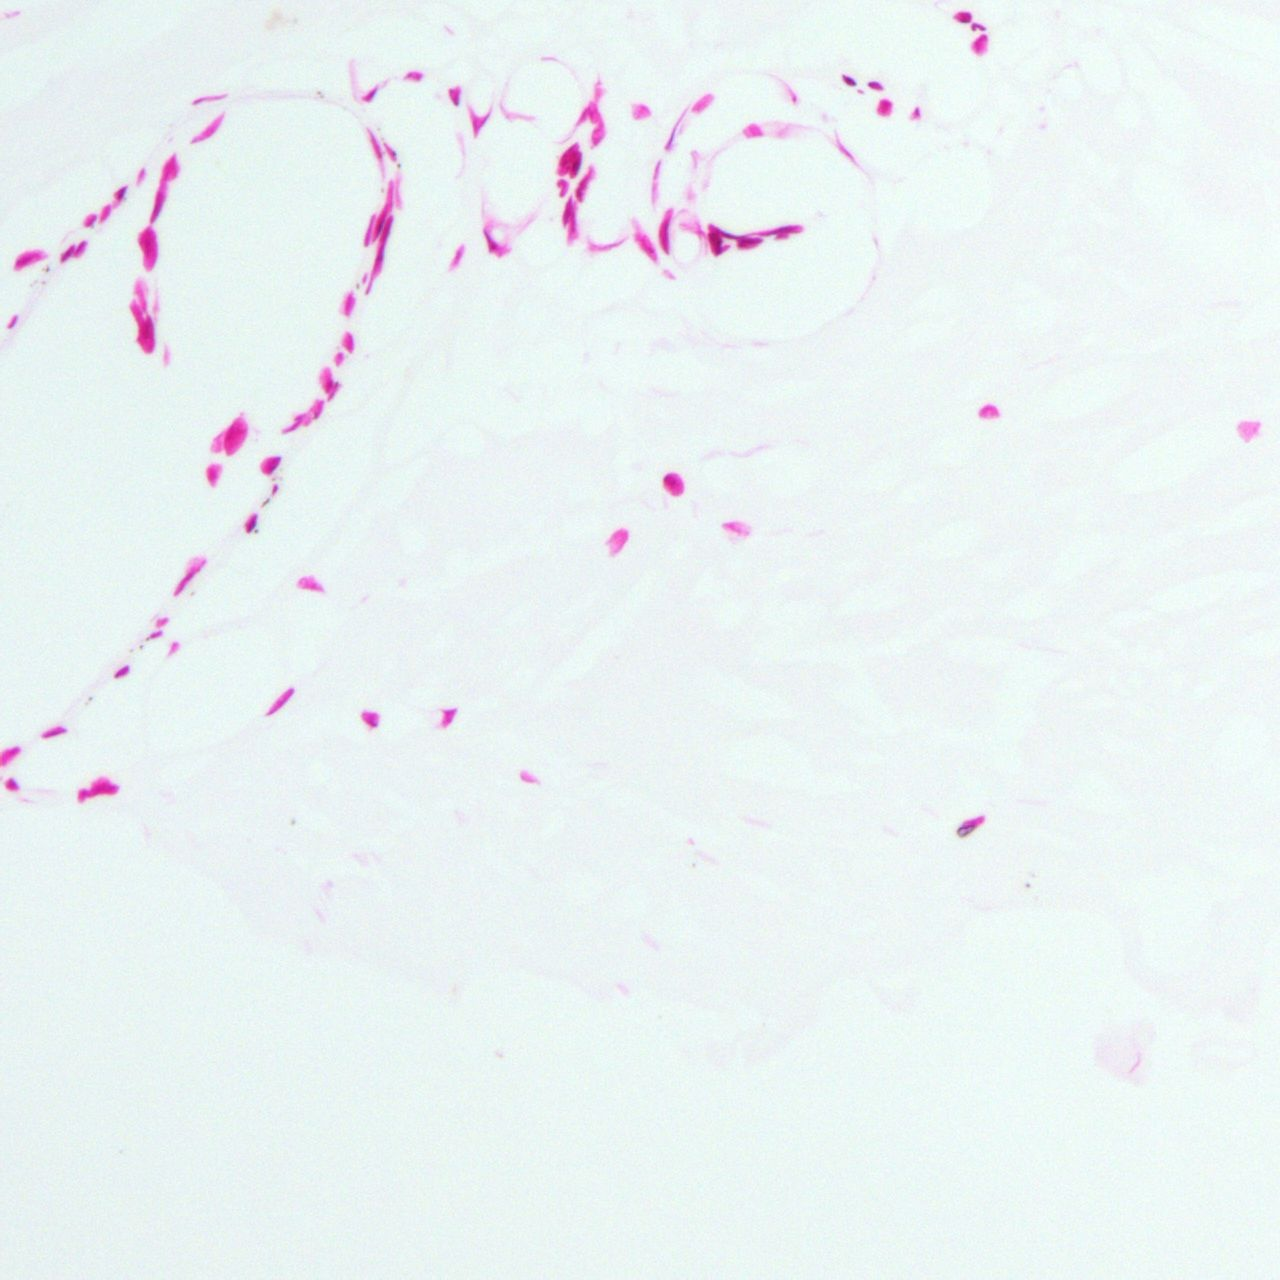dust: (1024, 881, 1032, 887)
nucleus-FG: (363, 213, 399, 298), (147, 150, 183, 227), (366, 178, 399, 247), (166, 550, 207, 598), (476, 224, 512, 261), (554, 138, 586, 179), (263, 683, 298, 719), (571, 162, 601, 200), (431, 700, 459, 731), (256, 448, 282, 476), (561, 198, 577, 244), (358, 703, 384, 728), (658, 206, 670, 254), (662, 470, 685, 496), (447, 243, 467, 271), (240, 510, 260, 535), (40, 723, 68, 740), (110, 181, 129, 203), (2, 775, 22, 795), (57, 241, 76, 263), (707, 231, 722, 256), (447, 84, 463, 107), (735, 234, 761, 248), (113, 663, 132, 681), (971, 33, 987, 54), (978, 403, 999, 418), (840, 72, 857, 89), (877, 98, 892, 116), (866, 79, 885, 91), (953, 11, 971, 22), (908, 105, 921, 120), (969, 21, 986, 30)
